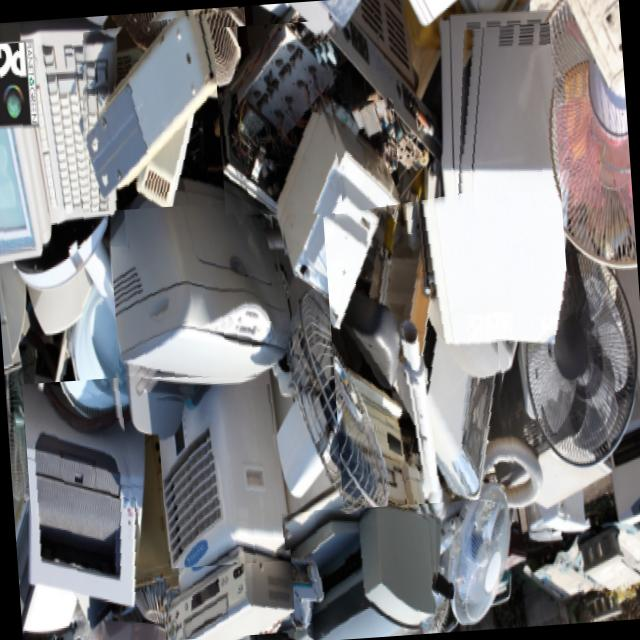Hazard: (331, 201, 500, 502), (454, 21, 565, 335), (106, 179, 282, 376), (81, 10, 248, 206), (0, 39, 122, 248), (281, 103, 399, 312), (21, 383, 131, 598), (160, 383, 278, 567), (216, 22, 328, 212), (283, 504, 432, 640), (167, 551, 291, 639)
